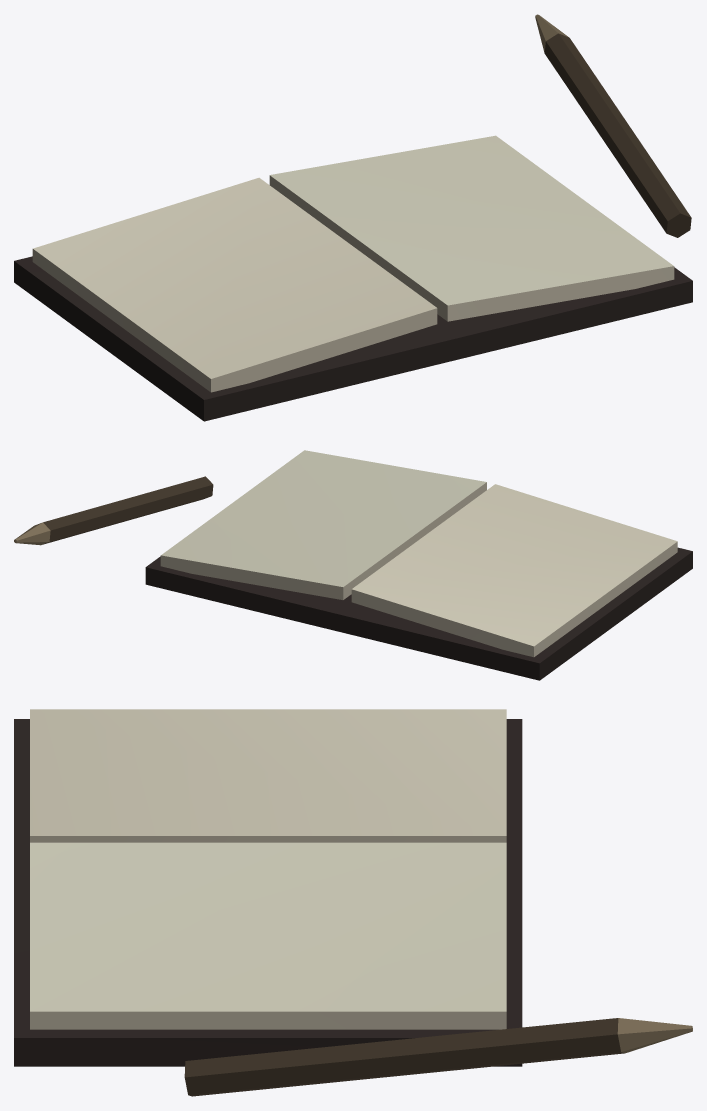
Rendered from ph_prop_notebook.glb.
The picture shows the model from 3 angles, top to bottom: view 1: azimuth 30°, elevation 25°; view 2: azimuth 150°, elevation 25°; view 3: azimuth 270°, elevation 25°; orthographic projection. The views are drawn at different scales.
Visible parts, largest first — view 1: ph_prop_notebook; view 2: ph_prop_notebook; view 3: ph_prop_notebook.
Boxes of the visible parts, box(x1,y1,x2,y2) form: ph_prop_notebook: box(14, 14, 692, 421); ph_prop_notebook: box(14, 450, 692, 680); ph_prop_notebook: box(14, 709, 692, 1096).
Size of the model in its own units: 0.2298 by 0.0302 by 0.1709.
